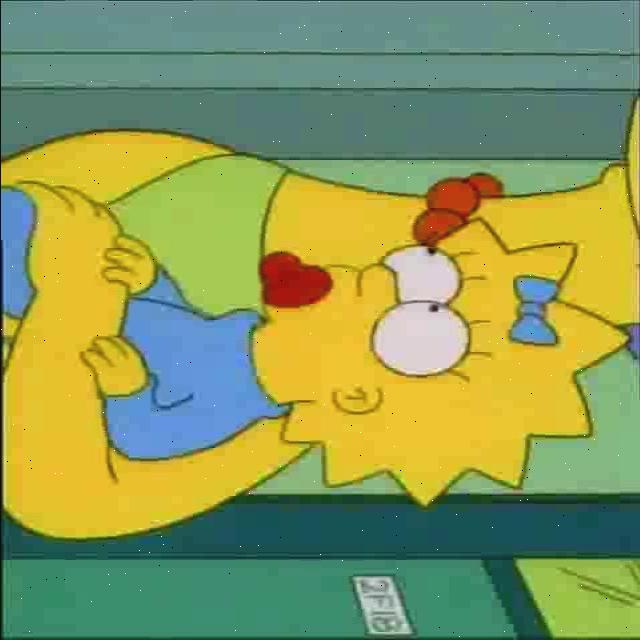Maggie Simpson: (250, 216, 634, 509)
